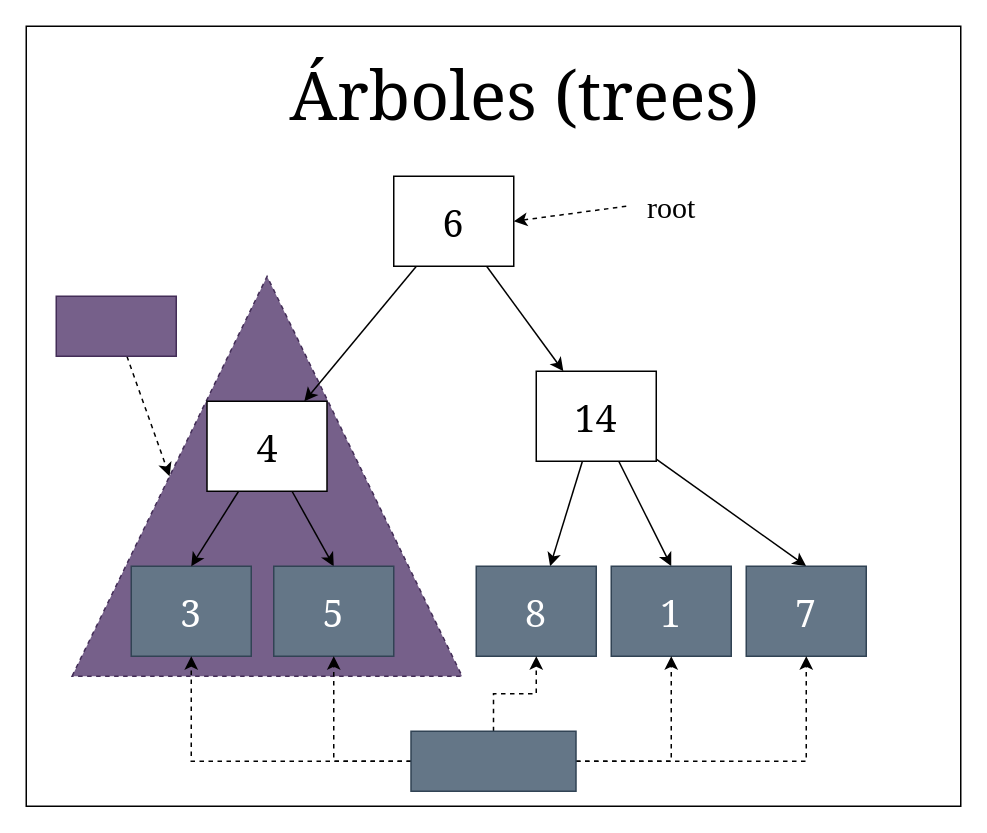
This 987x833 diagram has some shape labels left out. Each missing label, with the centre of its shape:
nodos hoja: (493,760)
subtree: (115,325)
